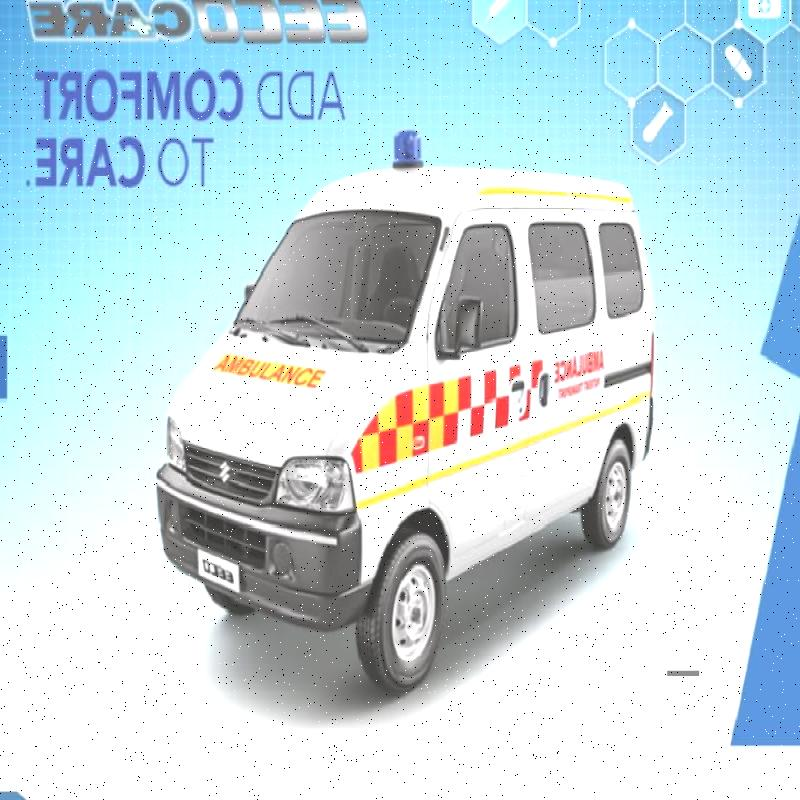ambulance: (146, 166, 660, 687)
